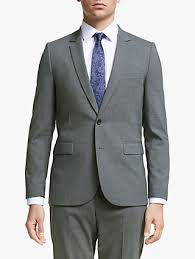F_M_suit jacket: (23, 20, 172, 205)
F_shirt: (77, 18, 120, 95)
F_tie: (88, 30, 108, 107)
